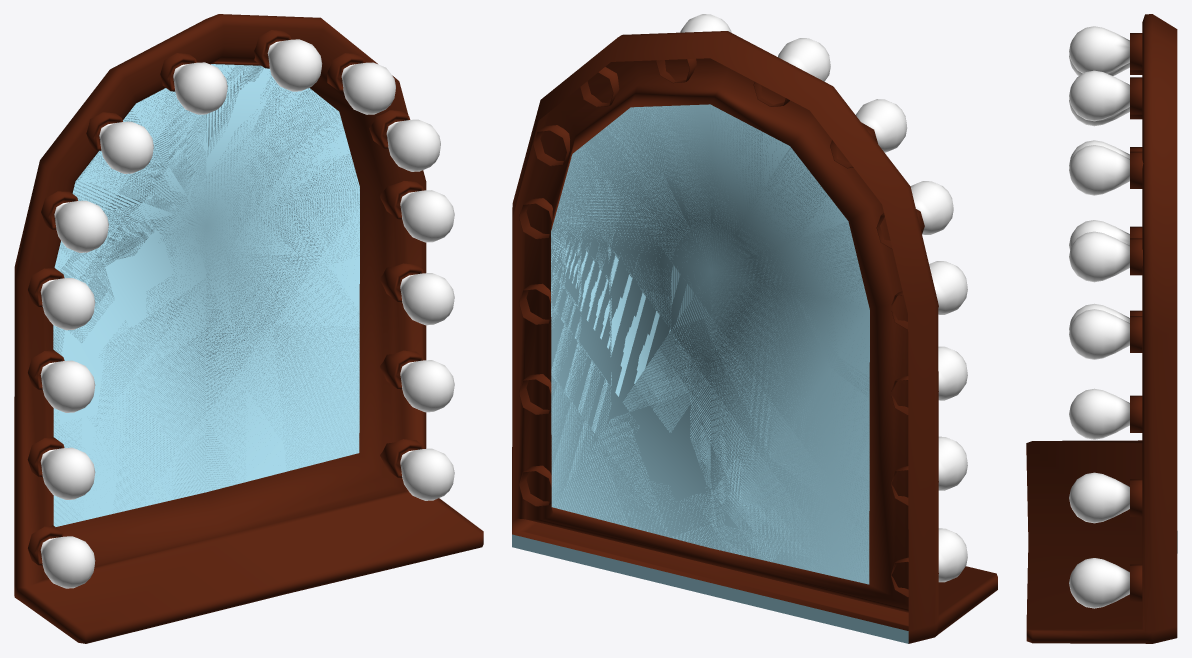
File: mirror.fbx
3 views of the same model, side by side, from view 1: azimuth 30°, elevation 25°; view 2: azimuth 150°, elevation 25°; view 3: azimuth 270°, elevation 25° (orthographic). The views are drawn at different scales.
Parts seen in each view (by area): view 1: bulbs; view 2: bulbs; view 3: bulbs.
Part boxes in pixels (box(x1,y1,x2,y2)): bulbs: box(14, 14, 483, 643); bulbs: box(512, 14, 997, 643); bulbs: box(1026, 14, 1177, 643).
Bounding box in the file's own units: 82.29 × 103 × 27.38.
